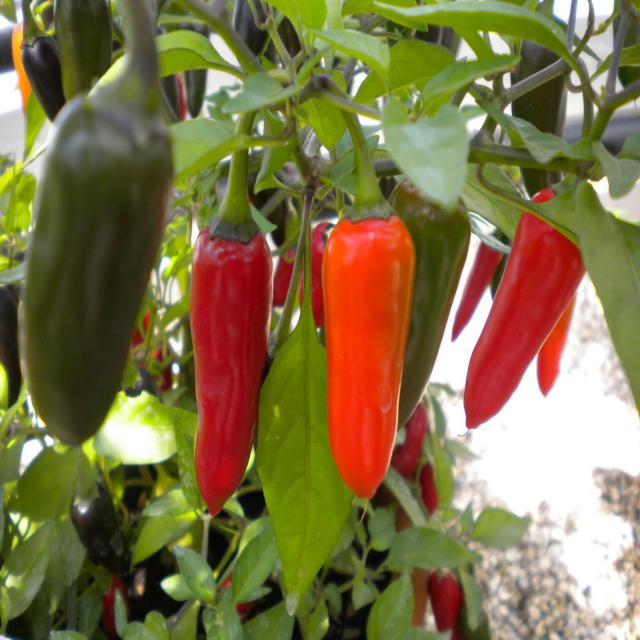chilli: (184, 203, 272, 508), (465, 200, 575, 442), (319, 196, 408, 493)
